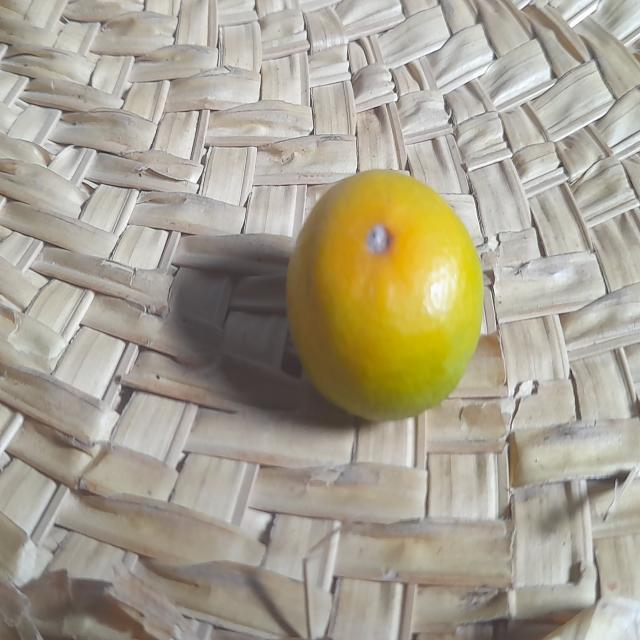greening: (283, 164, 490, 427)
